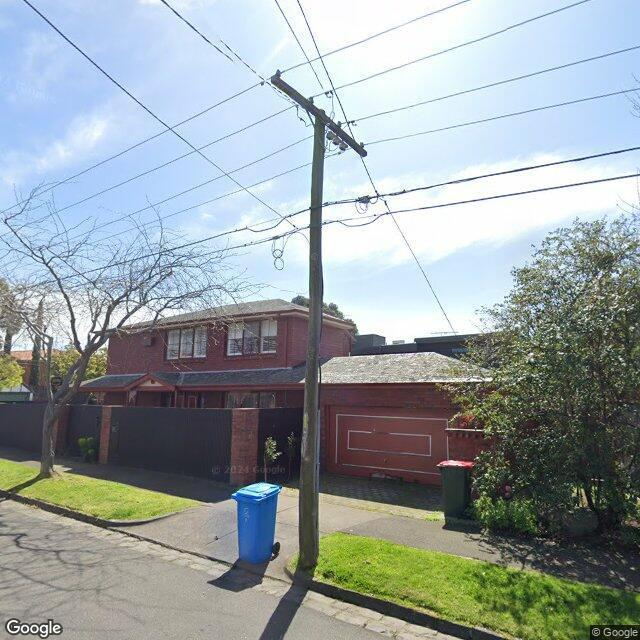crossarm: (271, 76, 367, 158)
timber-pole: (299, 109, 325, 569)
